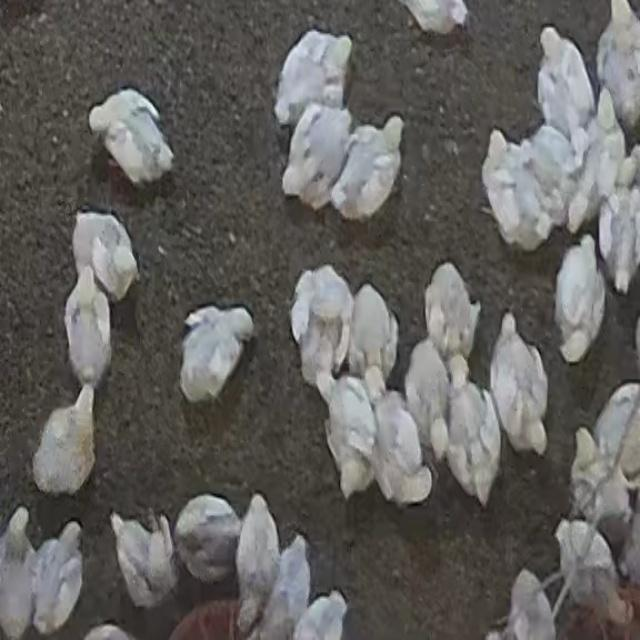chicken: (91, 87, 175, 187), (490, 315, 549, 454), (290, 266, 356, 386), (442, 374, 502, 505), (568, 88, 626, 222), (370, 390, 434, 508), (275, 28, 350, 128), (284, 101, 354, 207), (178, 304, 252, 404), (32, 385, 97, 498), (477, 133, 541, 247), (537, 26, 595, 150), (554, 519, 622, 624), (324, 375, 378, 502), (112, 509, 180, 609), (571, 423, 632, 534), (336, 115, 400, 218), (553, 237, 606, 361), (235, 492, 280, 635), (174, 493, 242, 585), (71, 209, 136, 305), (31, 519, 84, 632), (65, 266, 112, 390), (424, 262, 480, 366), (261, 533, 319, 633), (348, 282, 398, 394), (403, 338, 450, 456), (602, 157, 640, 299), (597, 3, 639, 127), (591, 383, 640, 487), (1, 509, 37, 636)
